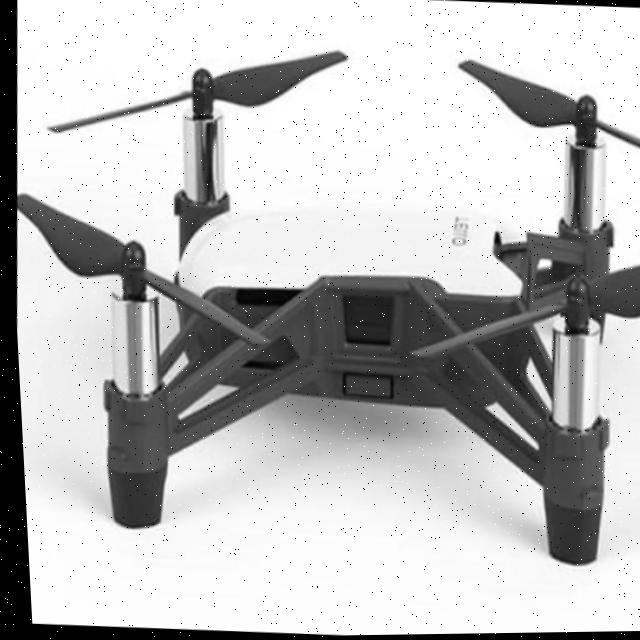drones: (1, 11, 640, 568)
